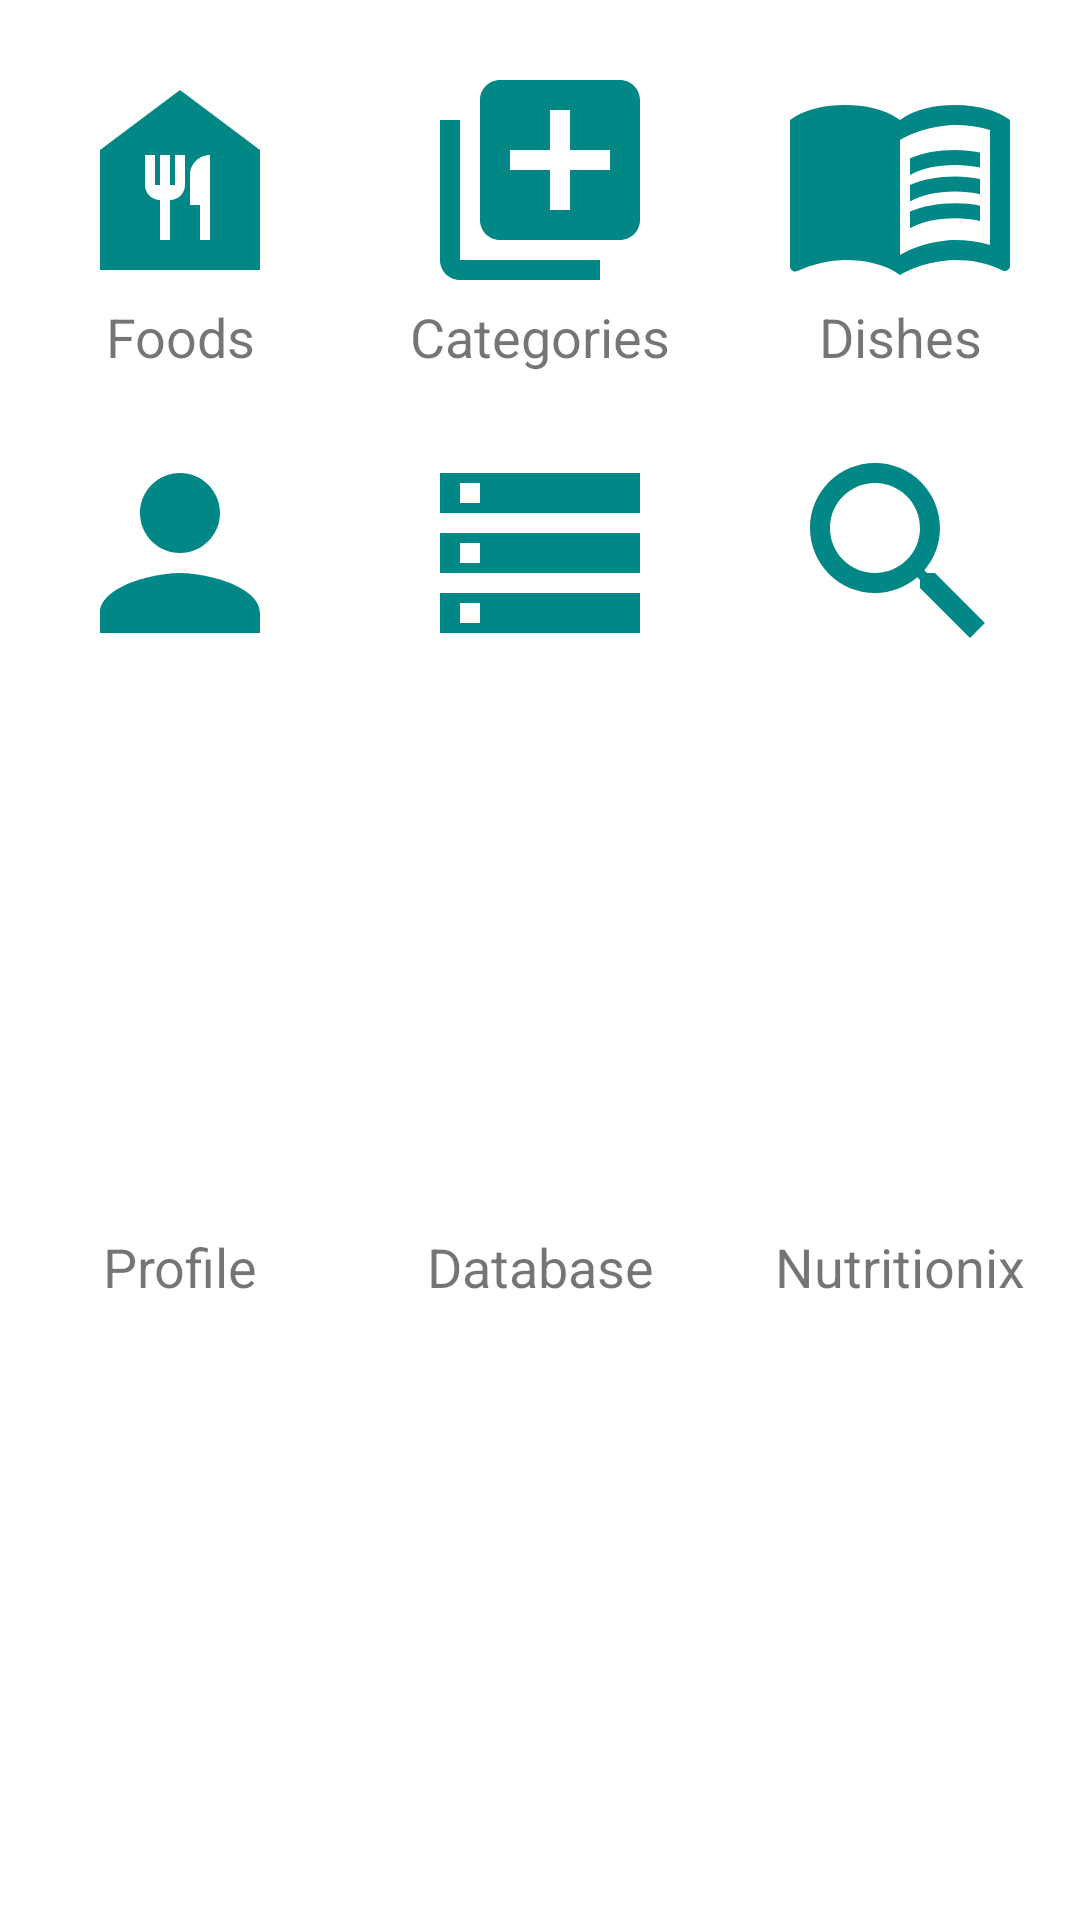

Locate icon controls on the screen. Image size 1080px x 1920px, boxes as (x1, y1, x2, y2).
database: (440, 473, 640, 633)
food db: (100, 90, 260, 270)
profile: (100, 473, 260, 633)
search: (810, 463, 985, 638)
